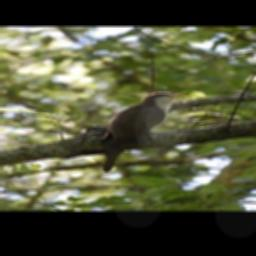Cuckoo: (96, 91, 191, 174)
